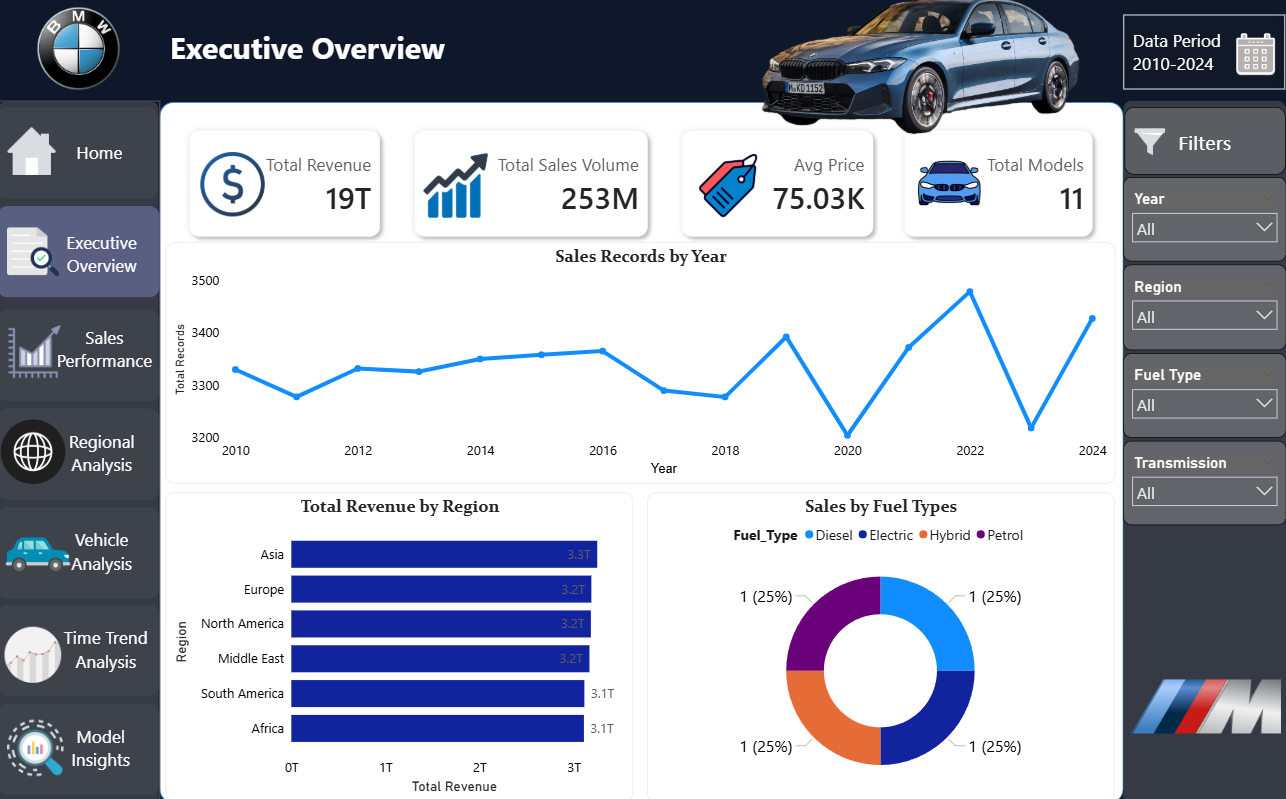

The dashboard page shown, as its layout file describes it:
{"tool":"powerbi","page":{"name":"Executive Overview","canvas":[1600,1000],"ordinal":1},"visuals":[{"type":"shape","box":[1398,22,200,92],"z":0,"group":"g17"},{"type":"shape","box":[742,130,202,870],"z":0},{"type":"shape","box":[0,258.8,202,114],"z":0,"group":"g15"},{"type":"shape","box":[-0.3,387.9,202,114],"z":0,"group":"g11"},{"type":"shape","box":[0,510,202,114],"z":0,"group":"g12"},{"type":"shape","box":[0,875.8,202,114],"z":0,"group":"g9"},{"type":"image","box":[1530,46,64,52],"z":1000,"group":"g17"},{"type":"shape","box":[1398,128,202,872],"z":1000},{"type":"actionButton","box":[76,510,108,109],"z":1000,"group":"g12"},{"type":"shape","box":[202,130,1196,870],"z":2000},{"type":"image","box":[12.8,275.9,65,80],"z":2000,"group":"g15"},{"type":"image","box":[14.2,399,65,80],"z":2000,"group":"g11"},{"type":"image","box":[4.3,524.1,80,80],"z":2000,"group":"g12"},{"type":"image","box":[12.8,890.9,70,80],"z":2000,"group":"g9"},{"type":"actionButton","box":[76,262.8,108,108],"z":2500,"group":"g15"},{"type":"actionButton","box":[70.2,381,127,109],"z":2500,"group":"g11"},{"type":"actionButton","box":[70,875.8,118,110],"z":2500,"group":"g9"},{"type":"cardVisual","fields":{"Data":["fact_bmw_sales.Total Sales Volume"]},"box":[488,136,348,190],"z":3000,"group":"g6"},{"type":"donutChart","title":"Sales by Fuel Types ","fields":{"Category":["fact_bmw_sales.Fuel_Type"],"Y":["fact_bmw_sales.Total Fuel Types"]},"box":[806,614,580,385],"z":3000},{"type":"cardVisual","fields":{"Data":["fact_bmw_sales.Avg Price"]},"box":[820,136,296,190],"z":4000,"group":"g7"},{"type":"slicer","fields":{"Values":["fact_bmw_sales.Year"]},"box":[1398,224,202,105],"z":4000},{"type":"cardVisual","fields":{"Data":["fact_bmw_sales.Total Revenue"]},"box":[210,136,295,190],"z":5000,"group":"g5"},{"type":"cardVisual","fields":{"Data":["fact_bmw_sales.Total Models"]},"box":[1096,136,292,190],"z":5000,"group":"g8"},{"type":"slicer","fields":{"Values":["fact_bmw_sales.Transmission"]},"box":[1398,550,202,105],"z":5000},{"type":"slicer","fields":{"Values":["fact_bmw_sales.Region"]},"box":[1398,332.4,202,106],"z":6000},{"type":"slicer","fields":{"Values":["fact_bmw_sales.Fuel_Type"]},"box":[1398,441.7,202,105],"z":7000},{"type":"textbox","box":[210,32,360,70],"z":8000},{"type":"barChart","fields":{"Category":["fact_bmw_sales.Region"],"Y":["fact_bmw_sales.Total Revenue"]},"box":[210,614,580,385],"z":9000},{"type":"shape","box":[0,128,202,872],"z":10000},{"type":"image","box":[0,0,202,128],"z":11000},{"type":"group","id":"g1","title":"Group 1","box":[820,136,296,190],"z":12000},{"type":"group","id":"g2","title":"Group 2","box":[488,136,348,190],"z":13000},{"type":"group","id":"g3","title":"Group 4","box":[1096,136,292,190],"z":14000},{"type":"group","id":"g4","title":"Group 3","box":[210,136,296,190],"z":15000},{"type":"image","box":[908,0,478,170],"z":16000},{"type":"image","box":[524,194,90,80],"z":16002,"group":"g6"},{"type":"lineChart","title":"Sales Records by Year","fields":{"Category":["fact_bmw_sales.Year"],"Y":["fact_bmw_sales.Total Records"]},"box":[210,304,1178,300],"z":17000},{"type":"textbox","box":[1399.2,136.7,200,84],"z":18000,"group":"g16"},{"type":"image","box":[246,192,94.3,80],"z":18000,"group":"g5"},{"type":"image","box":[1406,828,186,104],"z":18000},{"type":"image","box":[1138,190,86.1,80],"z":18001,"group":"g8"},{"type":"image","box":[862,194,90,80],"z":18002,"group":"g7"},{"type":"group","id":"g5","title":"Group 5","box":[210,136,295,190],"z":18008,"group":"g4"},{"type":"group","id":"g6","title":"Group 6","box":[488,136,348,190],"z":18008,"group":"g2"},{"type":"group","id":"g7","title":"Group 7","box":[820,136,296,190],"z":18008,"group":"g1"},{"type":"group","id":"g8","title":"Group 8","box":[1096,136,292,190],"z":18008,"group":"g3"},{"type":"image","box":[1405.6,153.8,50,50],"z":19000,"group":"g16"},{"type":"group","id":"g9","title":"Group 11","box":[0,875.8,202.9,113.2],"z":19000},{"type":"group","id":"g10","title":"Group 12","box":[0,754.4,202.9,113.2],"z":20000},{"type":"shape","box":[0,632.2,202,114],"z":20007,"group":"g14"},{"type":"shape","box":[0,754.4,202,114],"z":20008,"group":"g10"},{"type":"image","box":[8.5,767.3,70,100],"z":20018,"group":"g10"},{"type":"image","box":[10.7,651.2,80,80],"z":20019,"group":"g14"},{"type":"actionButton","box":[76,754.4,118,110],"z":20518,"group":"g10"},{"type":"actionButton","box":[76,632.2,108,109],"z":20519,"group":"g14"},{"type":"group","id":"g11","title":"Group 10","box":[-0.3,381,202,120.9],"z":21000},{"type":"group","id":"g12","title":"Group 14","box":[0,510,202,114],"z":22000},{"type":"group","id":"g13","title":"Group 13","box":[-0.8,136.6,202,114],"z":23000},{"type":"group","id":"g14","title":"Group 9","box":[0,632.2,202,114],"z":24000},{"type":"shape","box":[-0.8,136.6,202,114],"z":25000,"group":"g13"},{"type":"group","id":"g15","title":"Group 15","box":[0,258.8,202,114],"z":25000},{"type":"group","id":"g16","title":"Group 16","box":[1399.2,136.7,200,84],"z":26000},{"type":"group","id":"g17","title":"Group 17","box":[1398,22,200,92],"z":27000},{"type":"image","box":[4.3,151.7,80,80],"z":27000,"group":"g13"},{"type":"actionButton","box":[69.2,136.6,118,110],"z":27500,"group":"g13"}]}

Visuals, with their boxes in screenshot pixels (x1, y1, x2, y2), scaled from the page's 1600x1000 canvas onto the 1286x799 screenshot:
shape: rect(1124, 18, 1284, 91)
shape: rect(596, 104, 759, 798)
shape: rect(0, 207, 162, 298)
shape: rect(0, 310, 162, 401)
shape: rect(0, 407, 162, 499)
shape: rect(0, 700, 162, 791)
image: rect(1230, 37, 1281, 78)
shape: rect(1124, 102, 1285, 798)
actionButton: rect(61, 407, 148, 495)
shape: rect(162, 104, 1124, 798)
image: rect(10, 220, 63, 284)
image: rect(11, 319, 64, 383)
image: rect(3, 419, 68, 483)
image: rect(10, 712, 67, 776)
actionButton: rect(61, 210, 148, 296)
actionButton: rect(56, 304, 158, 392)
actionButton: rect(56, 700, 151, 788)
cardVisual - fact_bmw_sales.Total Sales Volume: rect(392, 109, 672, 260)
"Sales by Fuel Types " donutChart: rect(648, 491, 1114, 798)
cardVisual - fact_bmw_sales.Avg Price: rect(659, 109, 897, 260)
slicer - fact_bmw_sales.Year: rect(1124, 179, 1285, 263)
cardVisual - fact_bmw_sales.Total Revenue: rect(169, 109, 406, 260)
cardVisual - fact_bmw_sales.Total Models: rect(881, 109, 1116, 260)
slicer - fact_bmw_sales.Transmission: rect(1124, 439, 1285, 523)
slicer - fact_bmw_sales.Region: rect(1124, 266, 1285, 350)
slicer - fact_bmw_sales.Fuel_Type: rect(1124, 353, 1285, 437)
textbox: rect(169, 26, 458, 81)
barChart - fact_bmw_sales.Region x fact_bmw_sales.Total Revenue: rect(169, 491, 635, 798)
shape: rect(0, 102, 162, 798)
image: rect(0, 0, 162, 102)
"Group 1" group: rect(659, 109, 897, 260)
"Group 2" group: rect(392, 109, 672, 260)
"Group 4" group: rect(881, 109, 1116, 260)
"Group 3" group: rect(169, 109, 407, 260)
image: rect(730, 0, 1114, 136)
image: rect(421, 155, 494, 219)
"Sales Records by Year" lineChart: rect(169, 243, 1116, 483)
textbox: rect(1125, 109, 1285, 176)
image: rect(198, 153, 274, 217)
image: rect(1130, 662, 1280, 745)
image: rect(915, 152, 984, 216)
image: rect(693, 155, 765, 219)
"Group 5" group: rect(169, 109, 406, 260)
"Group 6" group: rect(392, 109, 672, 260)
"Group 7" group: rect(659, 109, 897, 260)
"Group 8" group: rect(881, 109, 1116, 260)
image: rect(1130, 123, 1170, 163)
"Group 11" group: rect(0, 700, 163, 790)
"Group 12" group: rect(0, 603, 163, 693)
shape: rect(0, 505, 162, 596)
shape: rect(0, 603, 162, 694)
image: rect(7, 613, 63, 693)
image: rect(9, 520, 73, 584)
actionButton: rect(61, 603, 156, 691)
actionButton: rect(61, 505, 148, 592)
"Group 10" group: rect(0, 304, 162, 401)
"Group 14" group: rect(0, 407, 162, 499)
"Group 13" group: rect(0, 109, 162, 200)
"Group 9" group: rect(0, 505, 162, 596)
shape: rect(0, 109, 162, 200)
"Group 15" group: rect(0, 207, 162, 298)
"Group 16" group: rect(1125, 109, 1285, 176)
"Group 17" group: rect(1124, 18, 1284, 91)
image: rect(3, 121, 68, 185)
actionButton: rect(56, 109, 150, 197)
